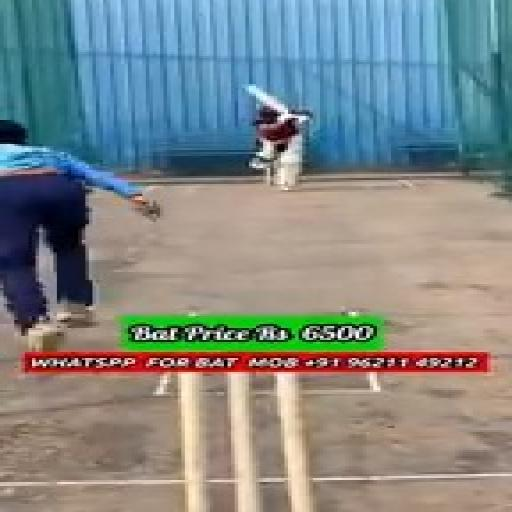Cricket bat: (245, 84, 288, 112)
